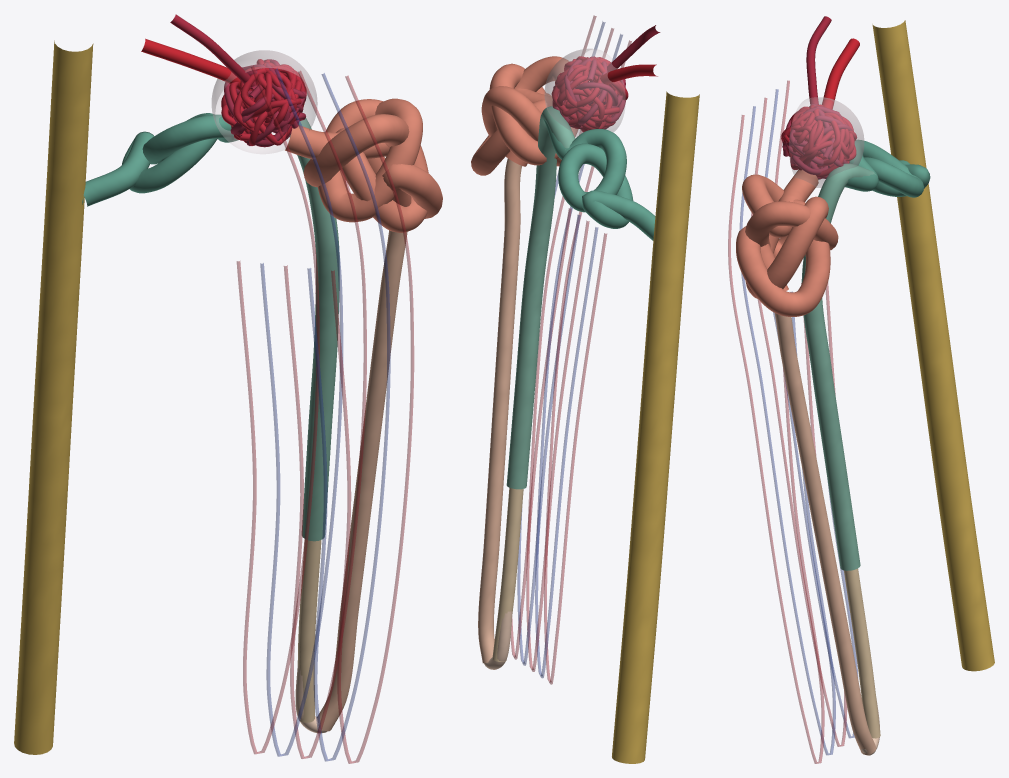
Rendered from x-nephron.8f73f2fa.glb.
3 renders of one model, left to right at view 1: azimuth 30°, elevation 25°; view 2: azimuth 150°, elevation 25°; view 3: azimuth 270°, elevation 25°, orthographic. The views are drawn at different scales.
Parts seen in each view (by area): view 1: Collecting duct, Vasa recta, Proximal tubule, Loop of Henle, Thick ascending limb, Distal tubule, Glomerulus, Bowman capsule, Afferent arteriole, Efferent arteriole; view 2: Collecting duct, Vasa recta, Loop of Henle, Thick ascending limb, Proximal tubule, Distal tubule, Bowman capsule, Glomerulus, Afferent arteriole, Efferent arteriole; view 3: Collecting duct, Vasa recta, Proximal tubule, Loop of Henle, Thick ascending limb, Bowman capsule, Glomerulus, Distal tubule, Afferent arteriole, Efferent arteriole.
Part boxes in pixels (x1,y1,x2,y2): Collecting duct: (14,40,93,754); Vasa recta: (236,66,414,763); Proximal tubule: (285,98,442,232); Loop of Henle: (295,230,407,733); Thick ascending limb: (231,112,339,541); Distal tubule: (82,113,238,206); Glomerulus: (221,59,306,147); Bowman capsule: (211,50,317,153); Afferent arteriole: (141,38,251,90); Efferent arteriole: (170,14,256,89); Collecting duct: (612,91,699,763); Vasa recta: (510,15,631,684); Loop of Henle: (478,158,523,669); Thick ascending limb: (506,106,575,489); Proximal tubule: (471,56,578,175); Distal tubule: (543,118,655,240); Bowman capsule: (544,48,625,137); Glomerulus: (551,56,628,132); Afferent arteriole: (595,64,657,84); Efferent arteriole: (607,25,660,72); Collecting duct: (872,20,994,671); Vasa recta: (728,80,858,763); Proximal tubule: (736,170,838,316); Loop of Henle: (774,313,880,755); Thick ascending limb: (801,163,875,570); Bowman capsule: (789,97,864,187); Glomerulus: (781,103,857,179); Distal tubule: (845,139,930,197); Afferent arteriole: (822,38,859,109); Efferent arteriole: (806,16,831,104).
Bounding box in the file's own units: 0.1265 × 0.3 × 0.1074.
